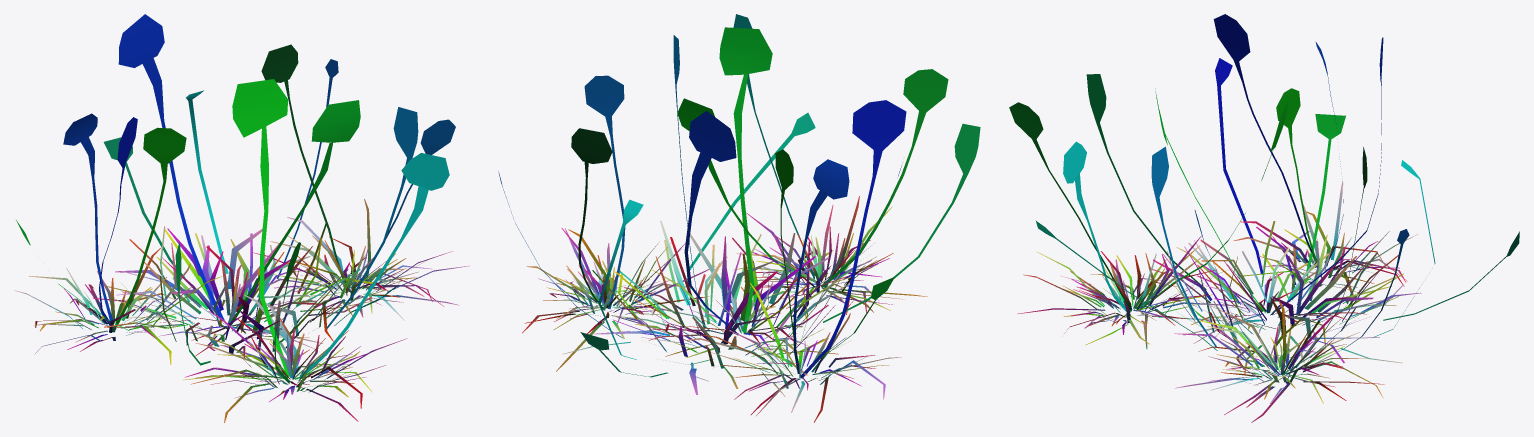
The model's file is Sea_Thrift_vkbgaihha_Mid_vkbgaihha_VarA_LOD2.fbx.
3 renders of one model, left to right at view 1: azimuth 30°, elevation 25°; view 2: azimuth 150°, elevation 25°; view 3: azimuth 270°, elevation 25°, orthographic. The views are drawn at different scales.
Parts seen in each view (by area): view 1: _mrm1_VarA_LOD3; view 2: _mrm1_VarA_LOD3; view 3: _mrm1_VarA_LOD3.
Part boxes in pixels (<box>): _mrm1_VarA_LOD3: <box>14,14,469,422</box>; _mrm1_VarA_LOD3: <box>498,14,980,422</box>; _mrm1_VarA_LOD3: <box>1009,14,1519,422</box>.
Size of the model in its own units: 30.48 by 22.47 by 35.84.
